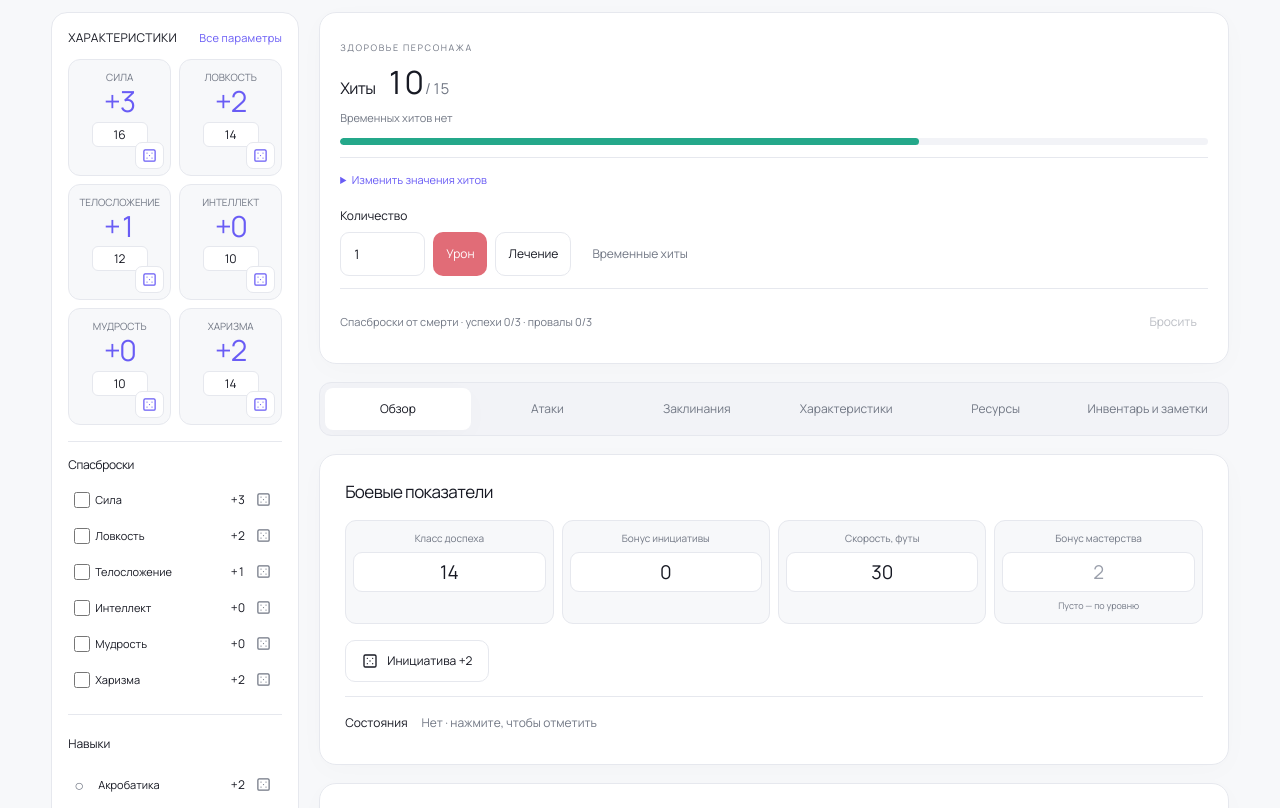
uses a saved spell through the API with one click and renders separate rolls
(page scrolled)
What coordinates should you click on to do the following:
click the tab "Заклинания"
I would click on:
 (697, 409)
Its box is [624, 388, 770, 430].
(page scrolled)
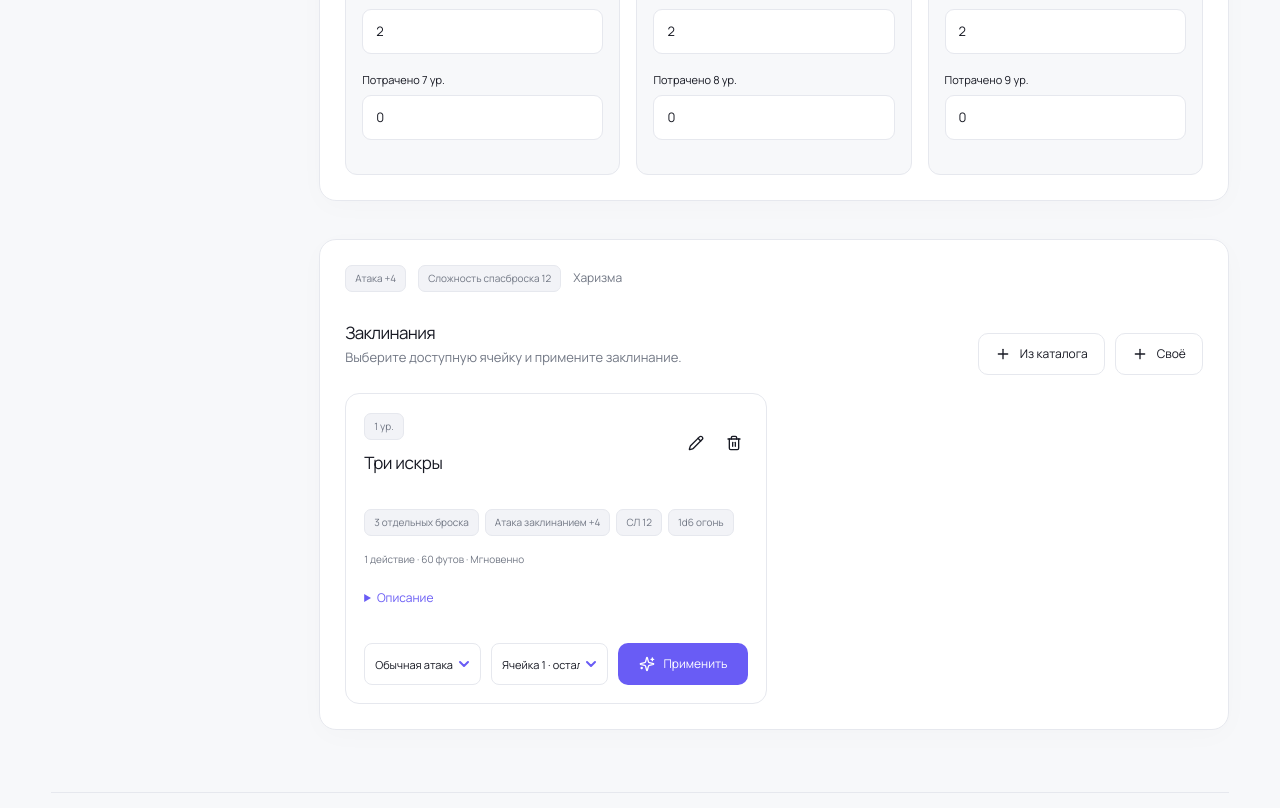
Expected: the heading "Три искры" is shown, [364, 450, 442, 475]
What coordinates should you click on to do the following:
click the button "Применить"
I would click on:
 (683, 664)
Its box is [618, 643, 748, 685].
(page scrolled)
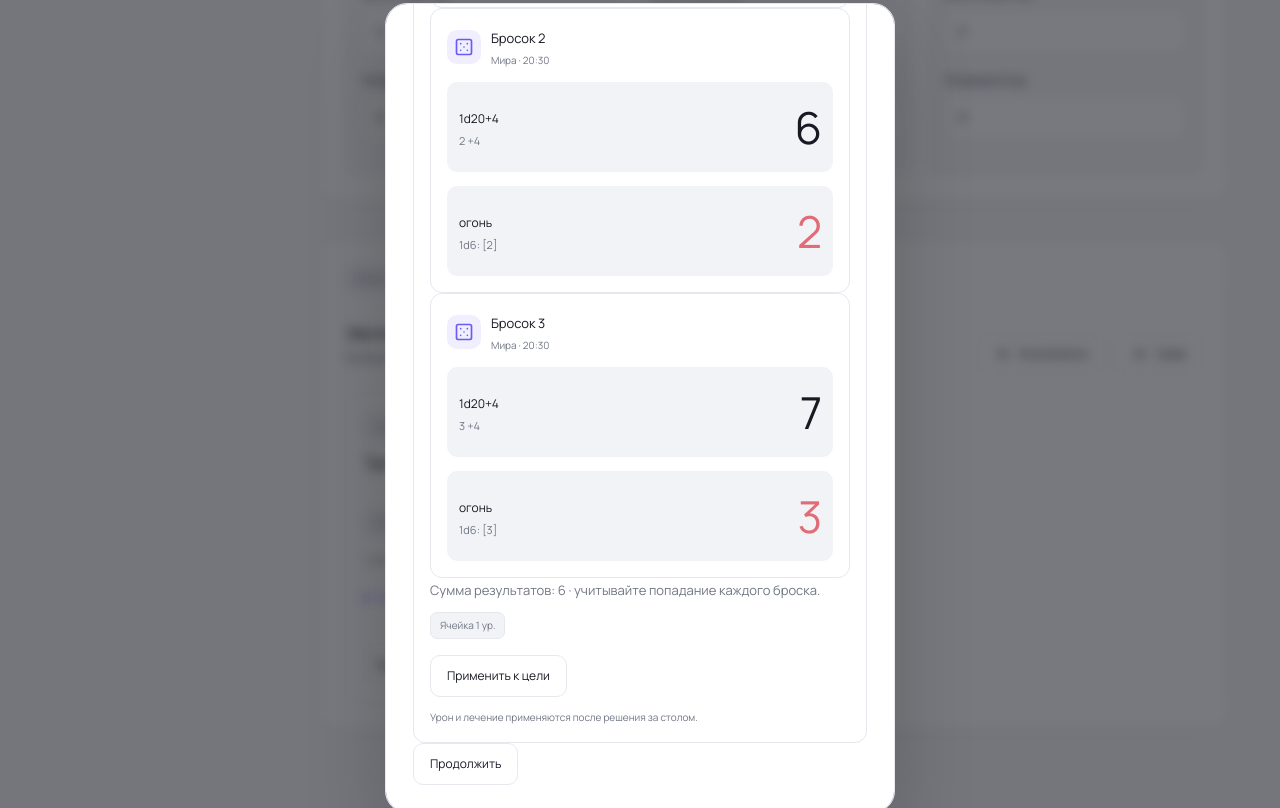
Result: the text "Сумма результатов: 6" is shown at [430, 581, 566, 599]
